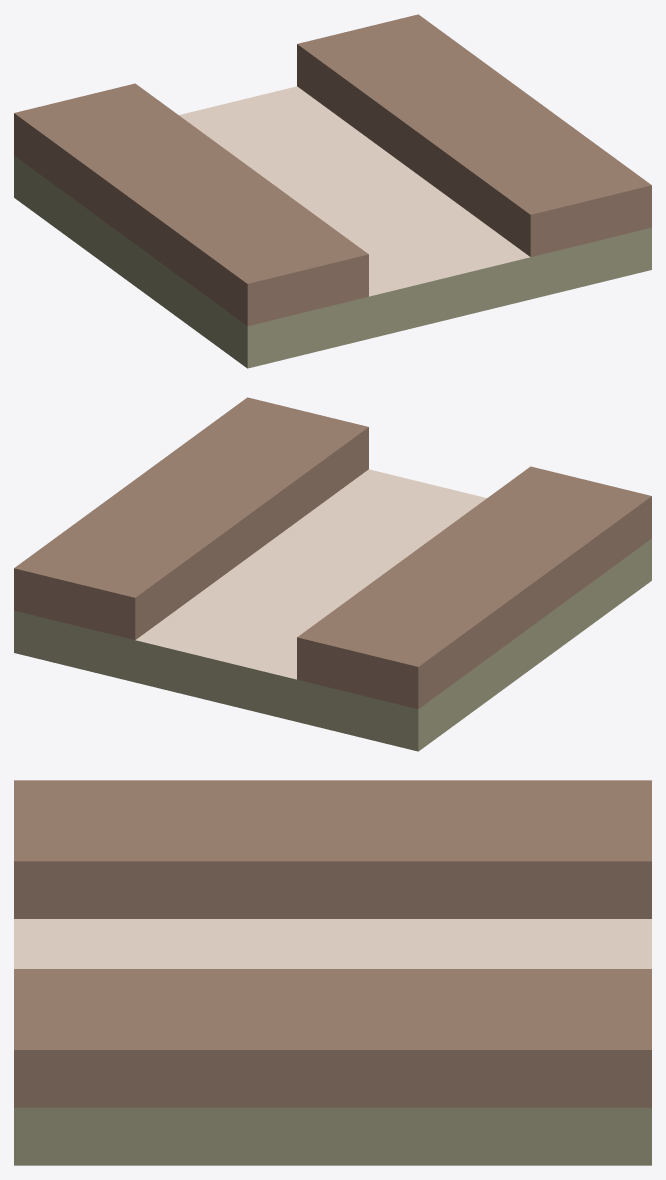
Rendered from ITile.glb.
3 views of the same model, one above another, from view 1: azimuth 30°, elevation 25°; view 2: azimuth 150°, elevation 25°; view 3: azimuth 270°, elevation 25° (orthographic). The views are drawn at different scales.
Parts seen in each view (by area): view 1: flor_tile; view 2: flor_tile; view 3: flor_tile.
Boxes of the visible parts, bbox=[...] form: flor_tile: bbox=[14, 14, 651, 368]; flor_tile: bbox=[14, 397, 651, 751]; flor_tile: bbox=[14, 780, 651, 1165].
Size of the model in its own units: 2 by 0.4 by 2.
